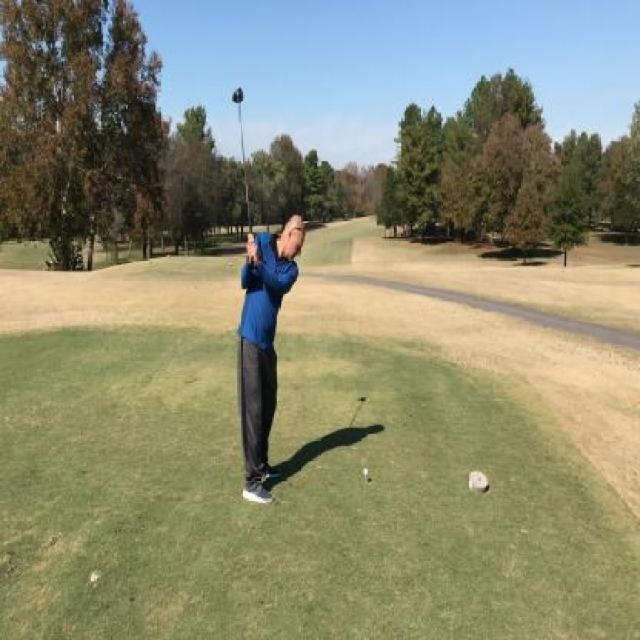club head: (232, 87, 245, 107)
